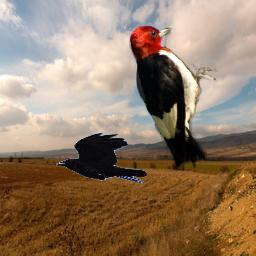Crow: (56, 133, 148, 184)
Woodpecker: (128, 24, 218, 173)
